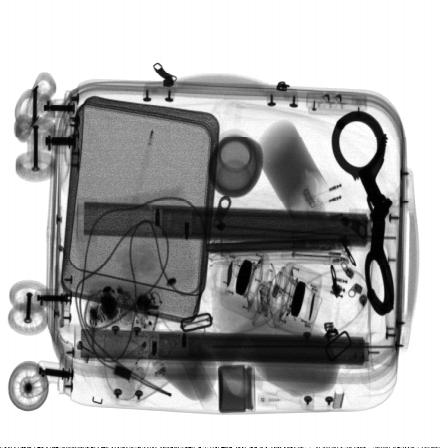HandCuffs: (331, 108, 395, 317)
